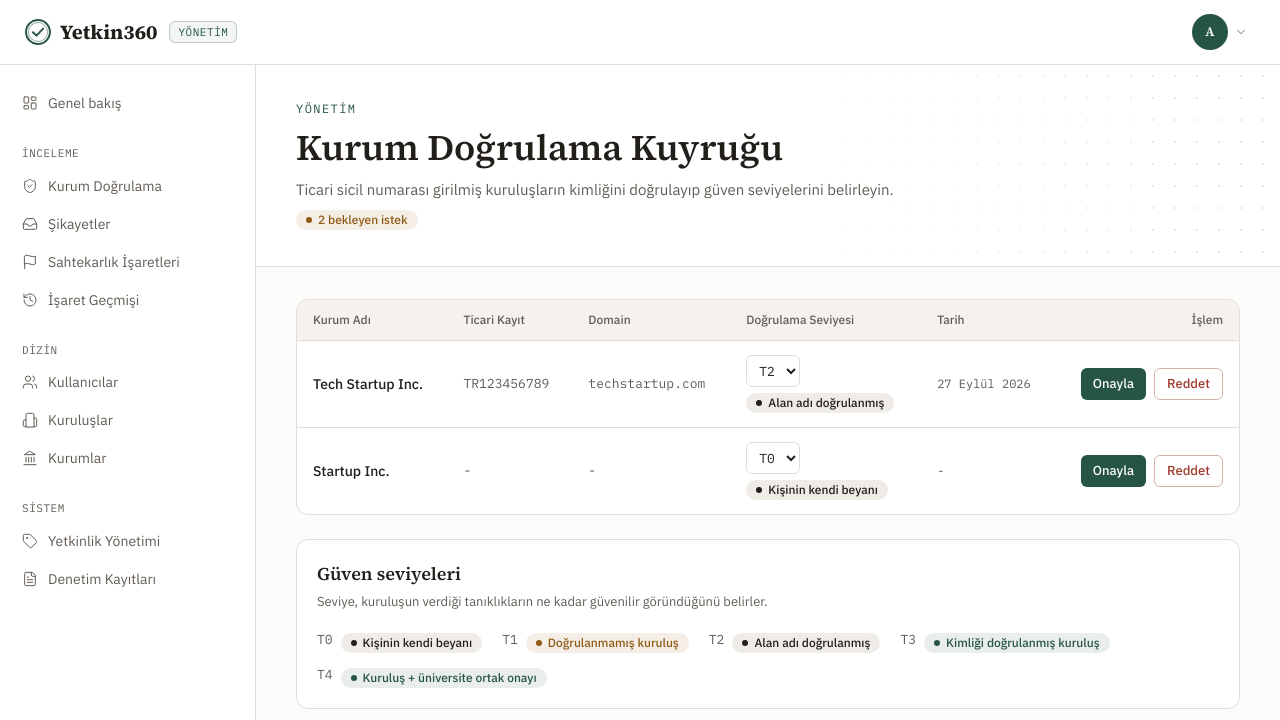
Scenario: DogrulamaKuyruguPage (/admin/dogrulama-kuyrugu) › AC-2: seviye güncelleme başarılı — satır kuyruktan kaybolur, yeşil bildirim gösterilir
Check: the text "Tech Startup Inc." is shown, box [313,374,423,394]
Select "T3" in the dropdown showing "T2". click: (773, 371)
box: [746,355,800,387]
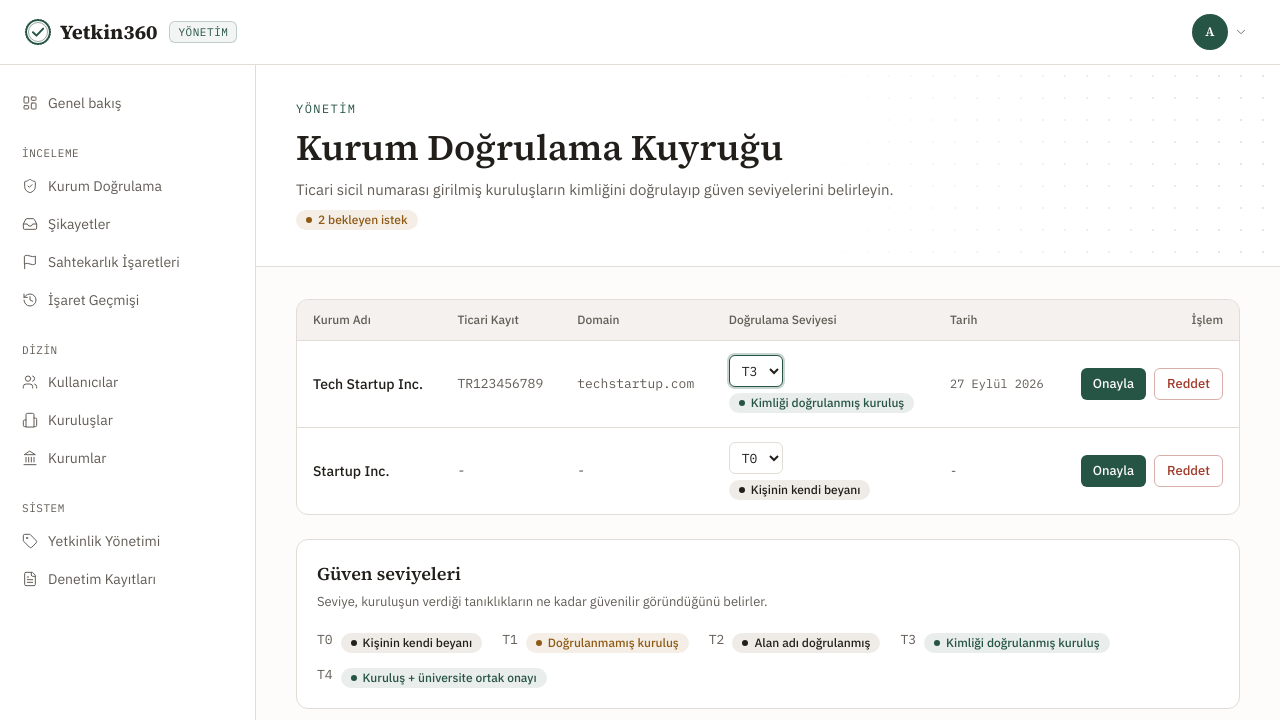
# Onayla butonu
Click the button "Onayla" in the row of "Tech Startup Inc.". click: (1114, 384)
box: [1081,368,1146,400]
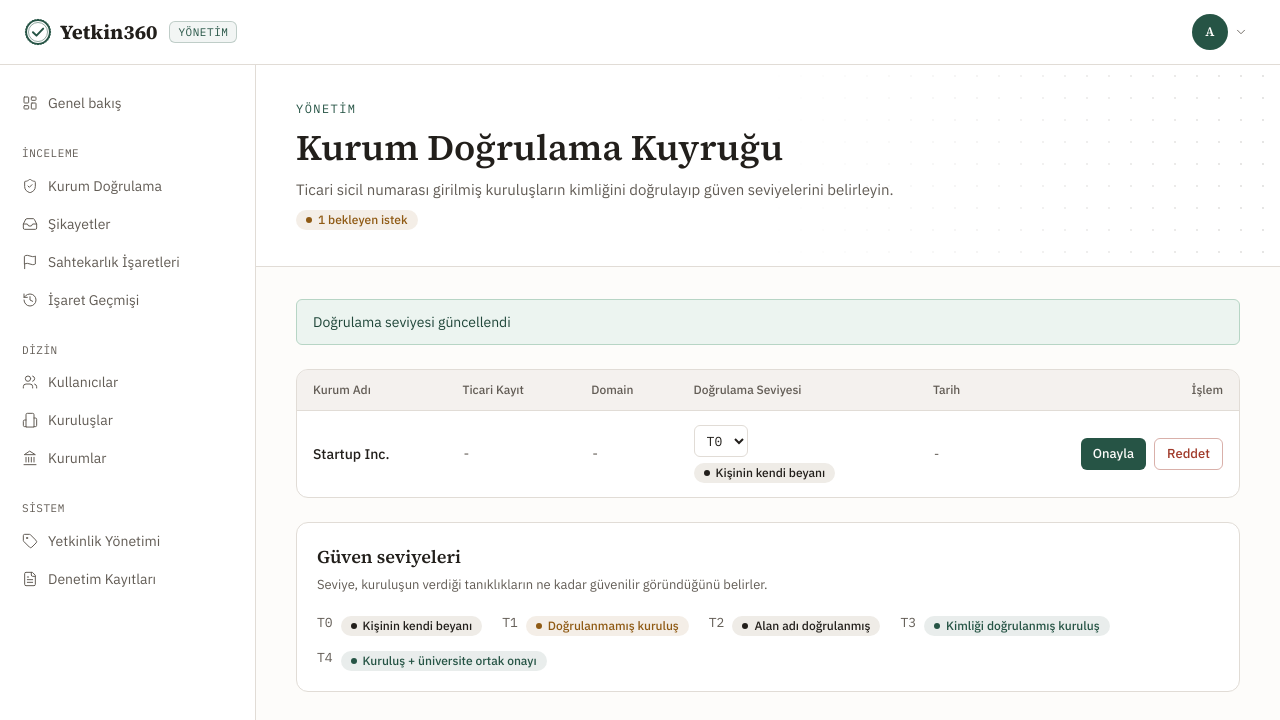
Check: the text "Startup Inc." is shown, box [313,444,390,464]
Check: the text "Doğrulama seviyesi güncellendi" is shown, box [296,299,1240,345]
Check: the text "Tech Startup Inc." is gone
